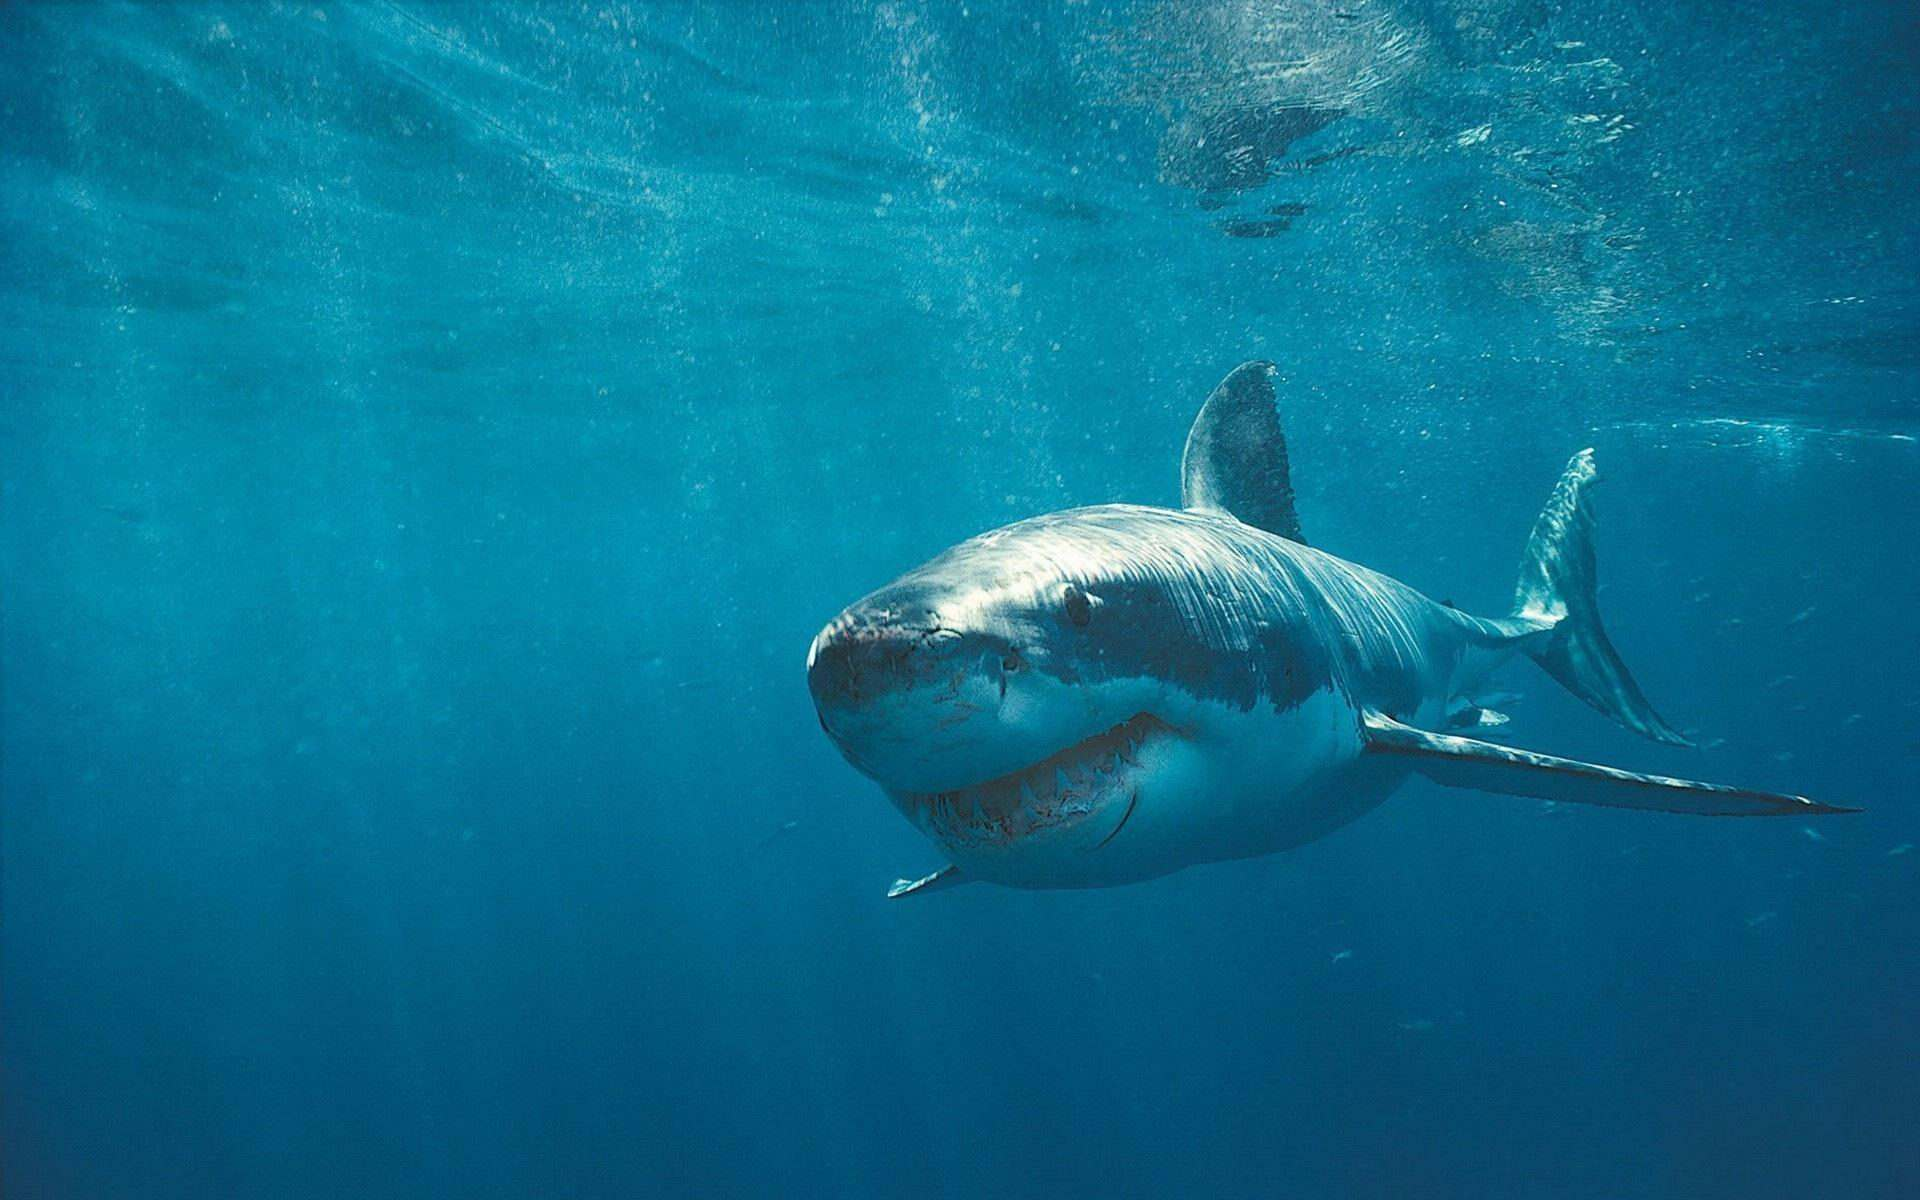shark: (802, 371, 1847, 903)
